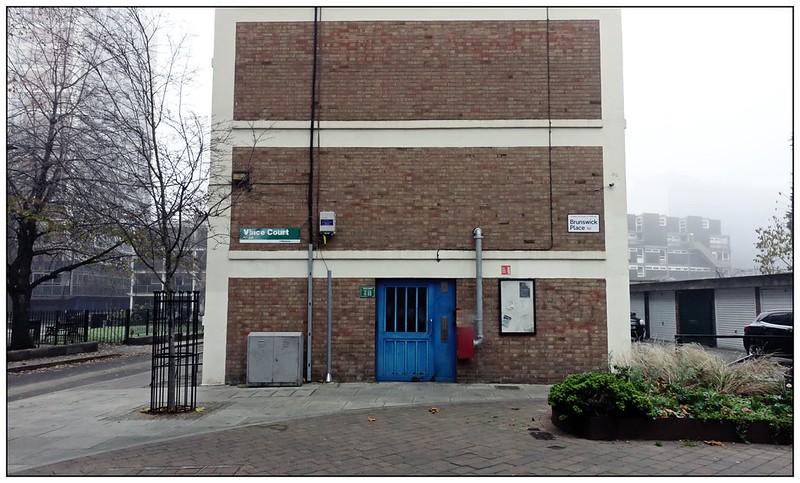medium: (201, 6, 634, 395)
